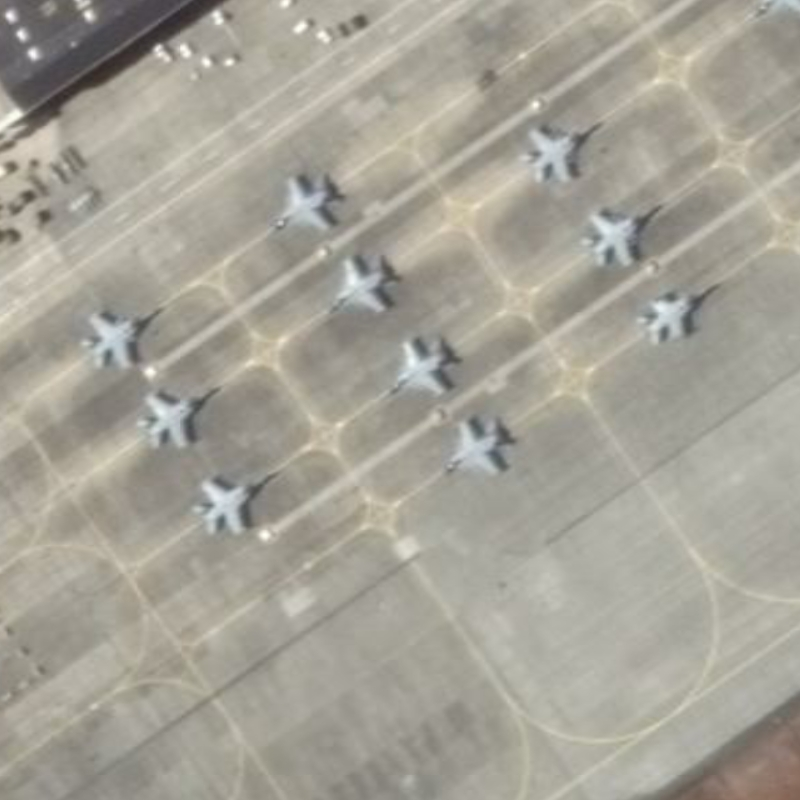A16: (182, 461, 286, 545), (625, 272, 730, 355), (360, 324, 465, 404), (251, 160, 349, 244), (421, 407, 515, 490), (128, 375, 224, 456), (76, 298, 171, 379), (308, 249, 400, 330), (572, 197, 669, 273), (512, 112, 604, 192)
